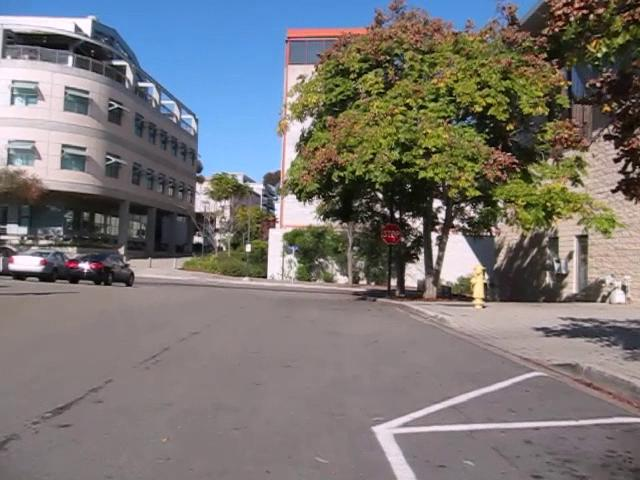stop: (380, 223, 402, 245)
